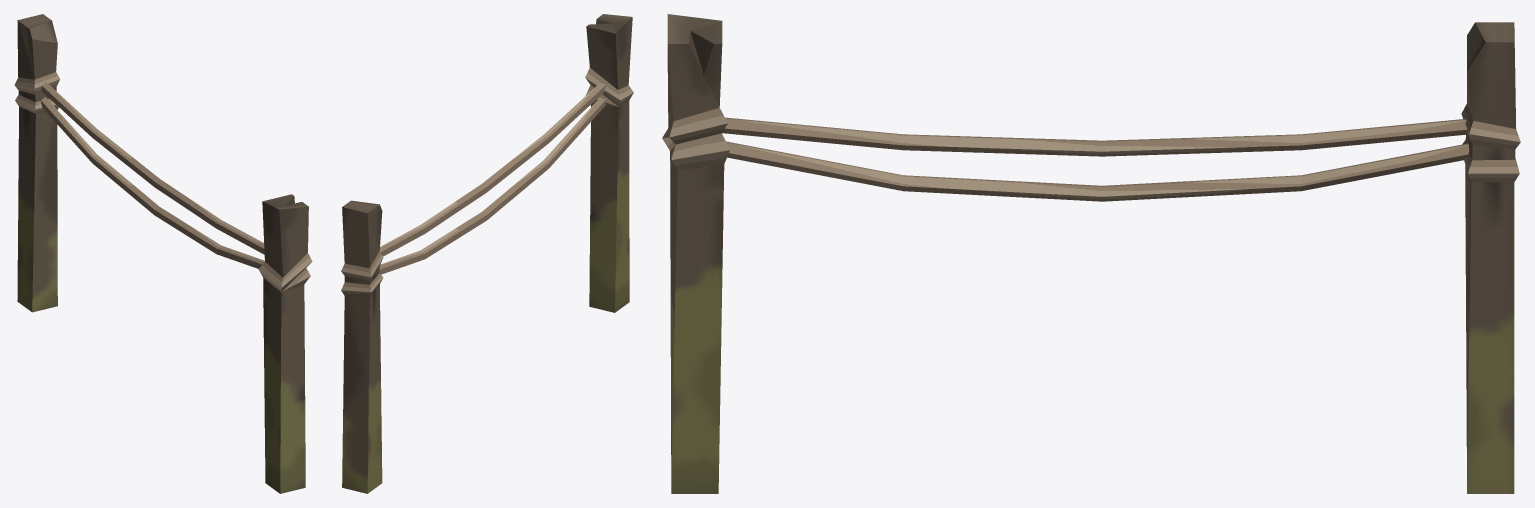
File: SM_Bld_Platform_Railing_01.obj
3 renders of one model, left to right at view 1: azimuth 30°, elevation 25°; view 2: azimuth 150°, elevation 25°; view 3: azimuth 270°, elevation 25°, orthographic. The views are drawn at different scales.
Visible parts, largest first — view 1: SM_Bld_Platform_Railing_01_0; view 2: SM_Bld_Platform_Railing_01_0; view 3: SM_Bld_Platform_Railing_01_0.
Boxes of the visible parts, x1,y1,x2,y2 form: SM_Bld_Platform_Railing_01_0: [14, 14, 312, 493]; SM_Bld_Platform_Railing_01_0: [341, 14, 633, 493]; SM_Bld_Platform_Railing_01_0: [662, 14, 1520, 493].
Bounding box in the file's own units: 0.2216 × 1.59 × 2.7.
1 material, 1 textured.
